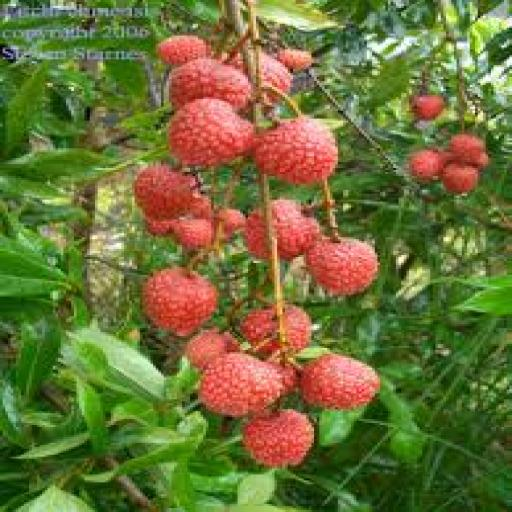lychee: (198, 352, 285, 417), (169, 99, 253, 166), (254, 117, 337, 183), (143, 267, 216, 336), (301, 354, 380, 409), (307, 238, 377, 296), (169, 58, 250, 108), (243, 410, 314, 466), (135, 165, 195, 219), (272, 200, 319, 260), (185, 329, 240, 369), (241, 307, 279, 353), (156, 36, 211, 65), (172, 218, 213, 249), (441, 163, 480, 193), (410, 149, 446, 181), (412, 95, 446, 120), (278, 50, 314, 71)
